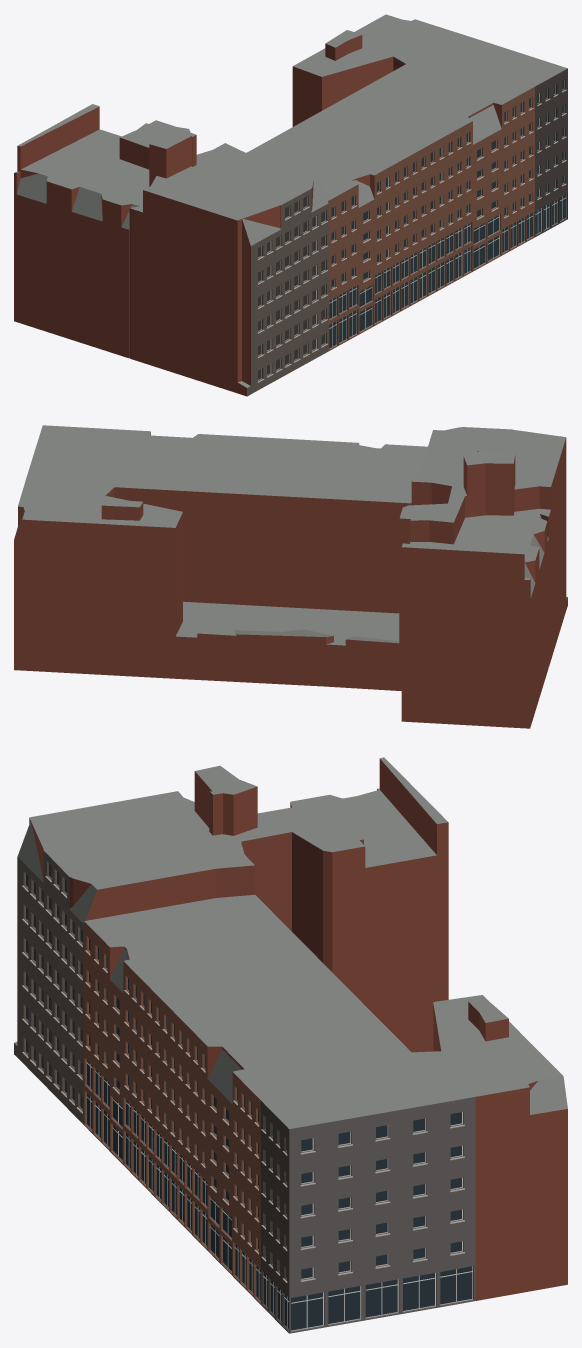
The model's file is recipe-large-kinkerstraat-32-137280.glb.
3 renders of one model, top to bottom at view 1: azimuth 30°, elevation 25°; view 2: azimuth 150°, elevation 25°; view 3: azimuth 270°, elevation 25°, orthographic. The views are drawn at different scales.
Parts seen in each view (by area): view 1: kinkerstraat-32-137280; view 2: kinkerstraat-32-137280; view 3: kinkerstraat-32-137280.
Boxes of the visible parts, left/top/right/bottom form: kinkerstraat-32-137280: left=14, top=14, right=567, bottom=396; kinkerstraat-32-137280: left=14, top=425, right=567, bottom=728; kinkerstraat-32-137280: left=14, top=757, right=567, bottom=1333.
Bounding box in the file's own units: 67.76 × 25.25 × 46.11.
